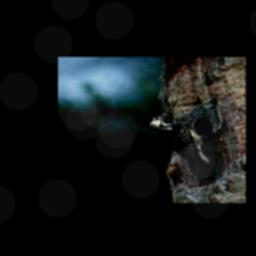Woodpecker: (142, 112, 213, 180)
